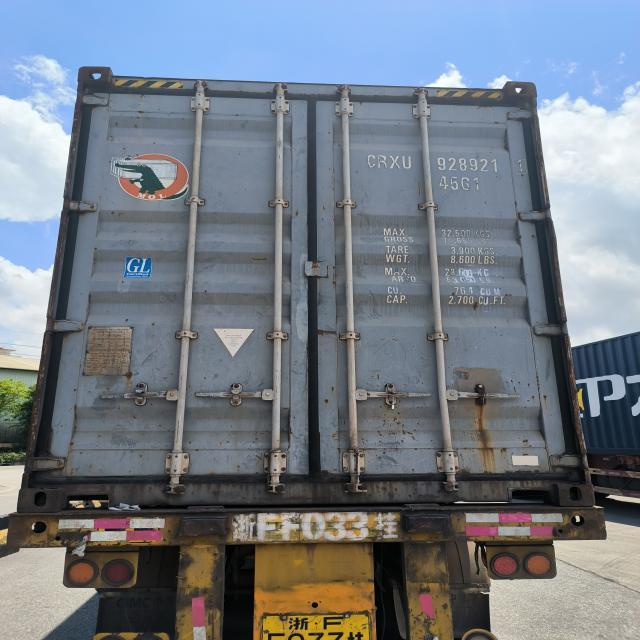ISO: (440, 173, 483, 193)
container_number: (372, 154, 522, 174)
